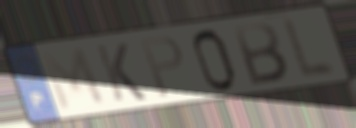0: (190, 27, 240, 94)
B: (230, 21, 292, 88)
K: (93, 41, 150, 104)
L: (281, 15, 340, 82)
M: (37, 45, 110, 114)
P: (138, 33, 187, 101)
